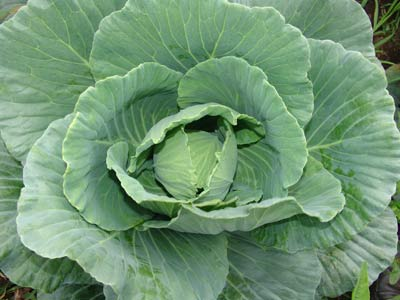cabbage: (1, 3, 399, 299)
